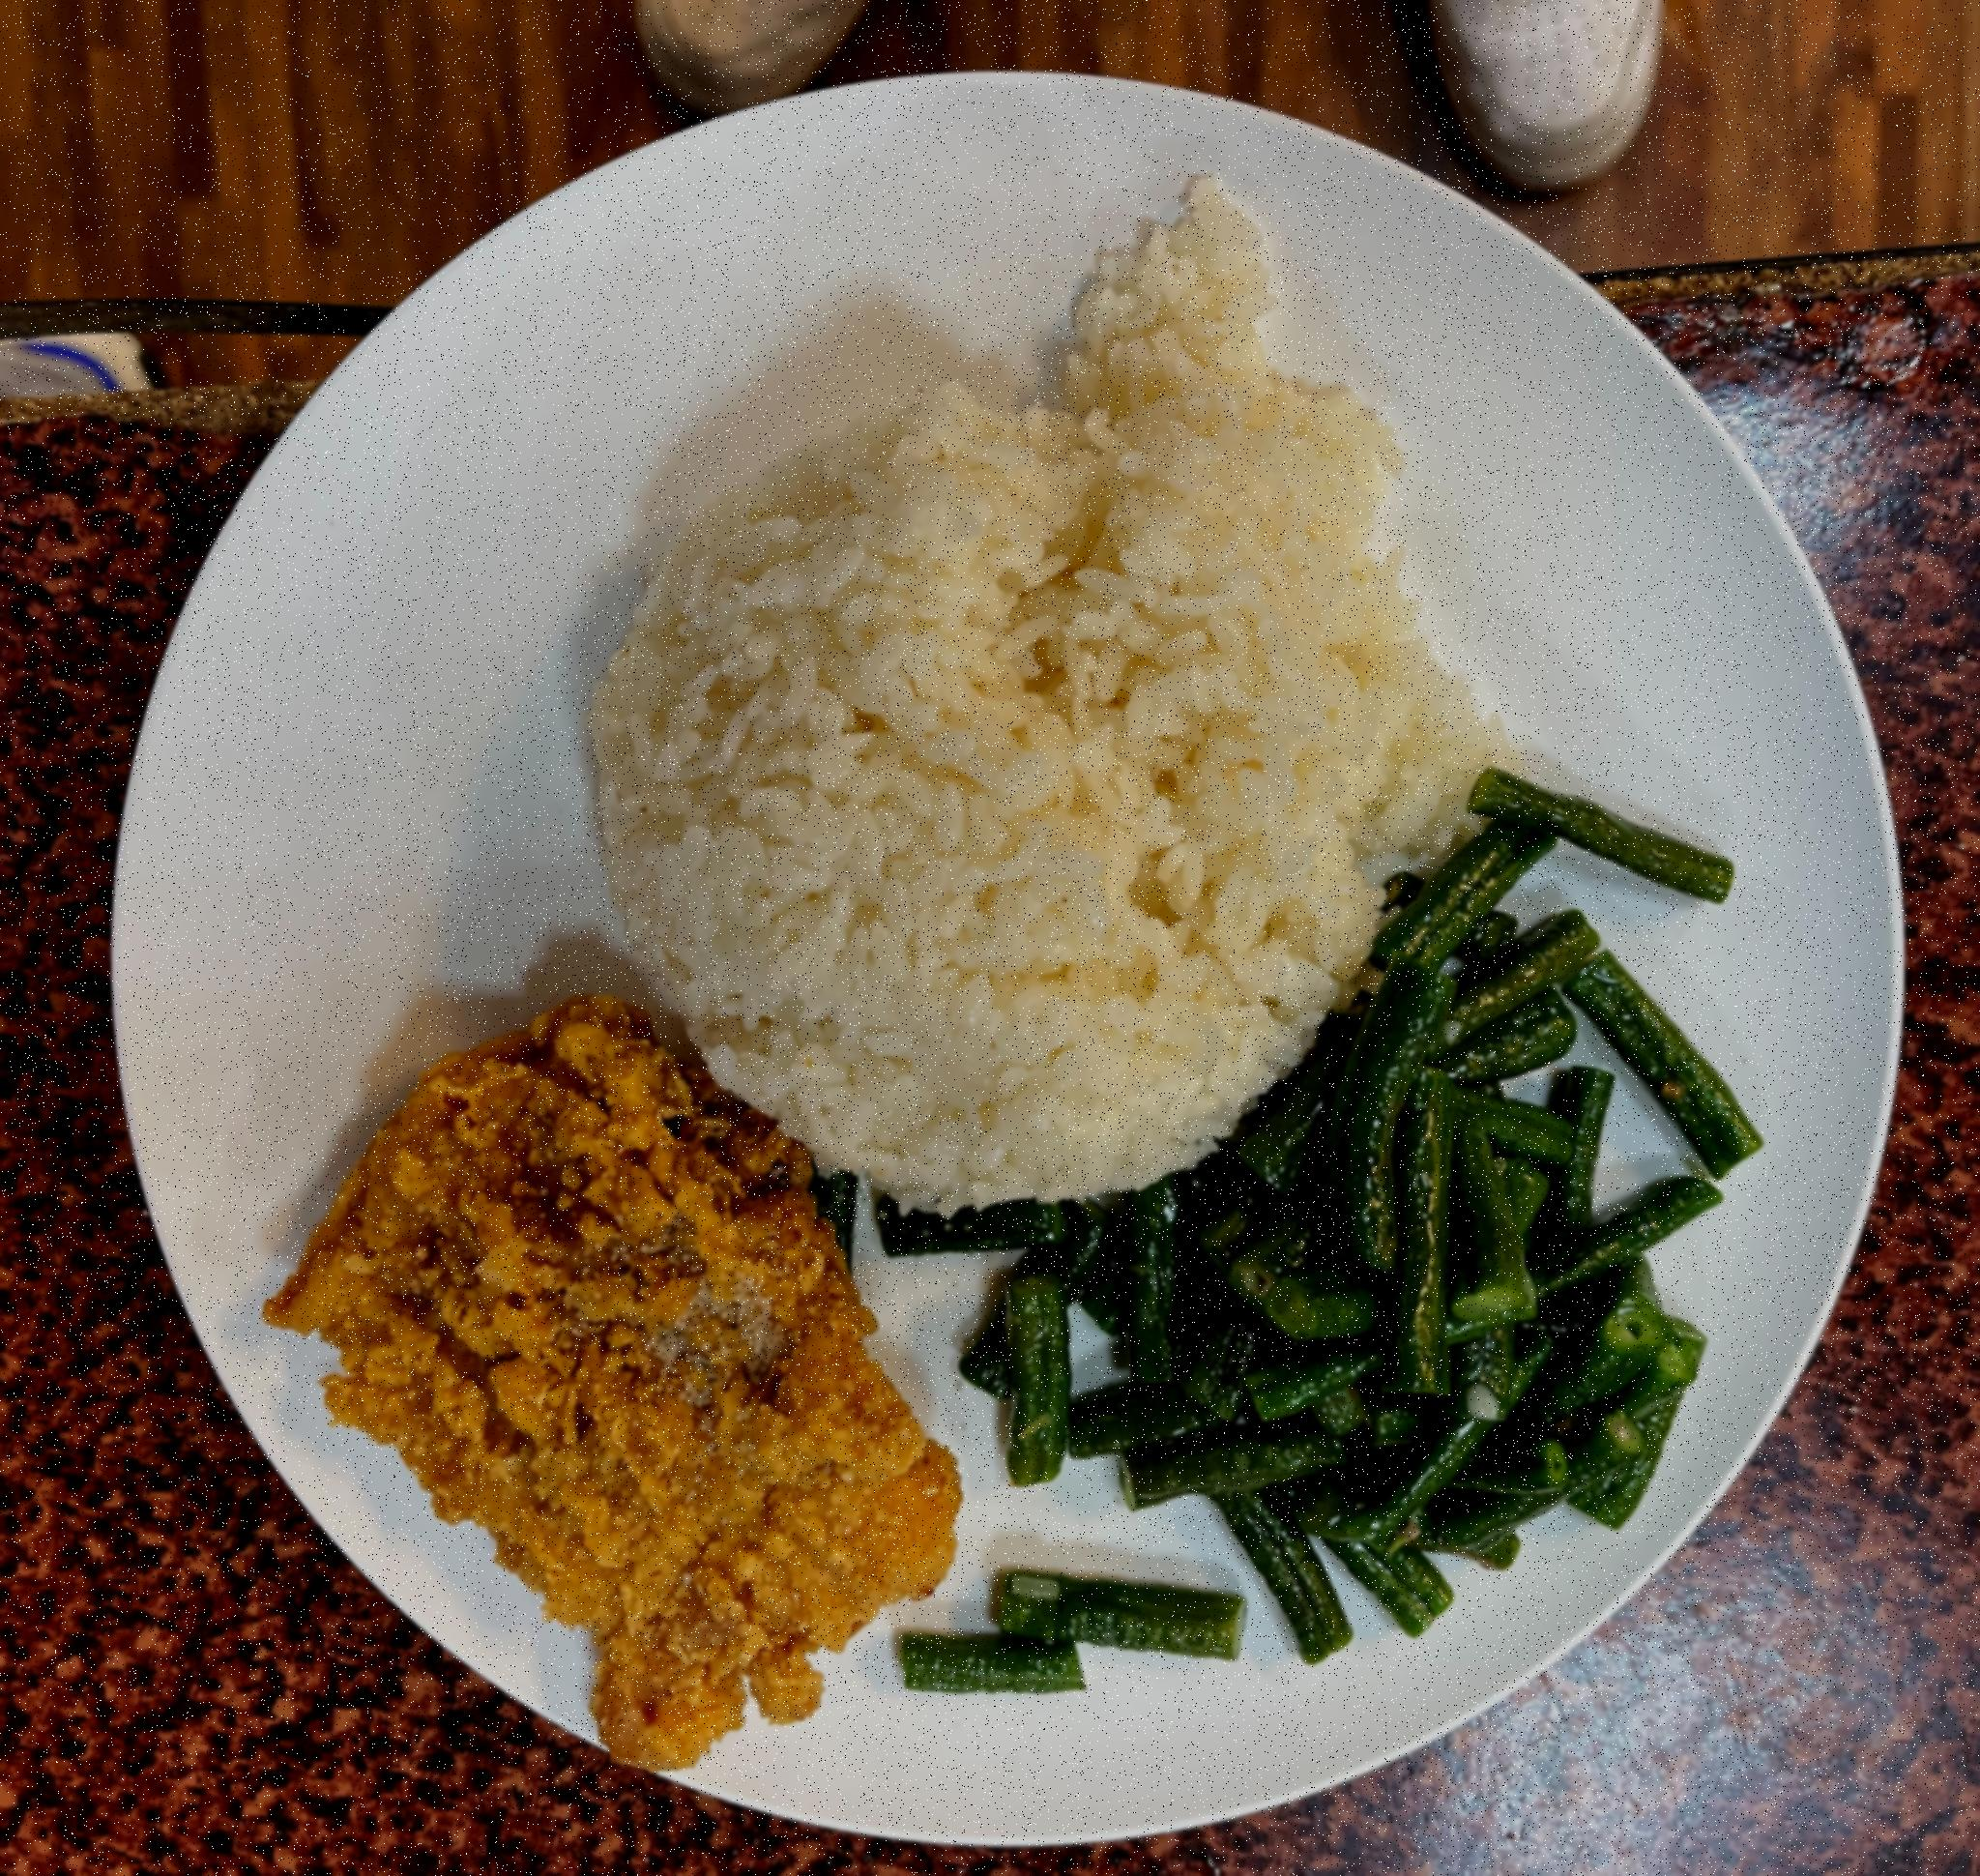big fried chicken leg: (93, 46, 1939, 1858)
big herbal chicken leg: (582, 183, 1460, 1204)
braised fish fillet: (904, 749, 1793, 1735)
braised pork: (247, 998, 977, 1781)
